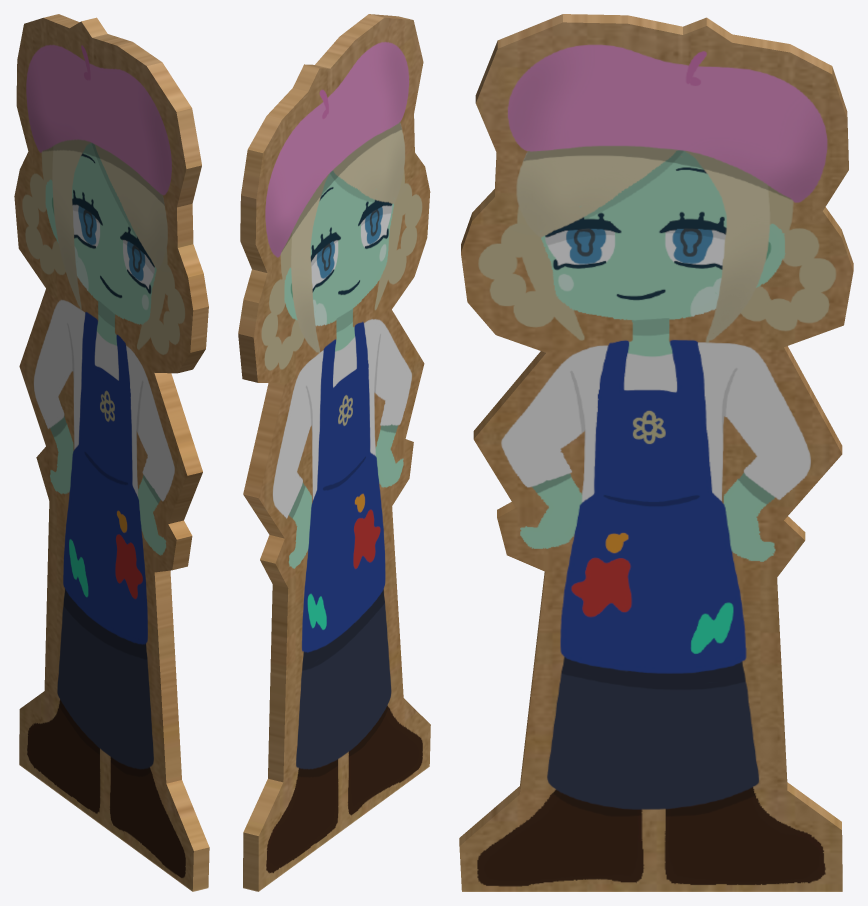
The model's file is NPC_Base_4_Artist.glb.
3 views of the same model, side by side, from view 1: azimuth 30°, elevation 25°; view 2: azimuth 150°, elevation 25°; view 3: azimuth 270°, elevation 25° (orthographic). The views are drawn at different scales.
Visible parts, largest first — view 1: NPC_Base_4_Artist; view 2: NPC_Base_4_Artist; view 3: NPC_Base_4_Artist.
Part boxes in pixels (x1,y1,x2,y2): NPC_Base_4_Artist: (14,14,209,891); NPC_Base_4_Artist: (238,14,430,891); NPC_Base_4_Artist: (459,14,853,891).
Bounding box in the file's own units: 0.0407 × 1.96 × 0.8041.
1 material, 1 textured.
